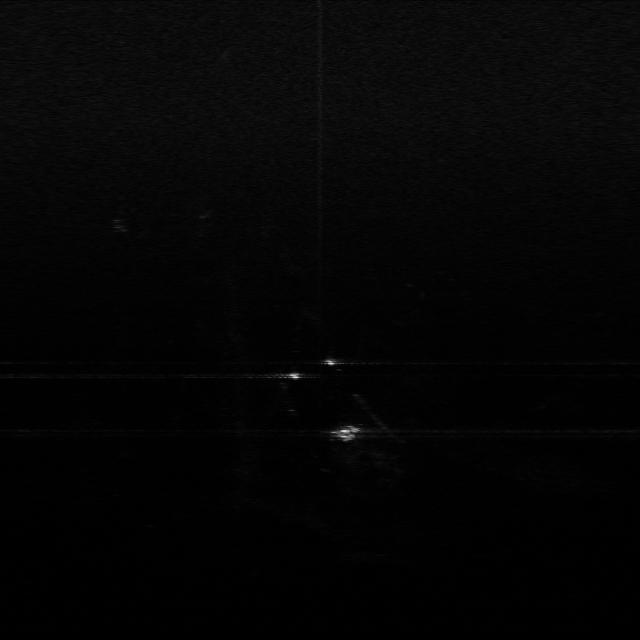rov: (324, 419, 364, 448)
